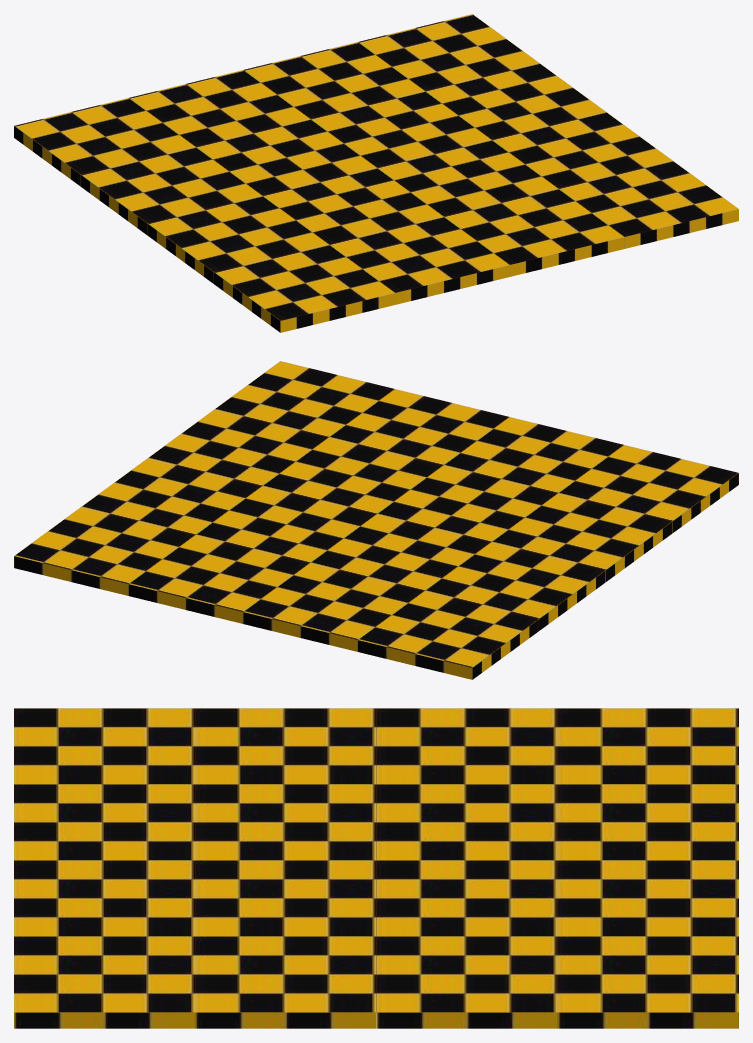
File: tiles seperate.fbx
3 views of the same model, one above another, from view 1: azimuth 30°, elevation 25°; view 2: azimuth 150°, elevation 25°; view 3: azimuth 270°, elevation 25° (orthographic). The views are drawn at different scales.
Visible parts, largest first — view 1: plane.022, plane.020, plane.019, plane.021, plane.014, plane.018, plane.010, plane.009, plane.008, plane.013, plane.016, plane.012 (+4 smaller); view 2: plane.010, plane.008, plane.007, plane.009, plane.018, plane.014, plane.022, plane.021, plane.012, plane.017, plane.020, plane.011 (+4 smaller); view 3: plane.007, plane.011, plane.015, plane.019, plane.016, plane.017, plane.018, plane.008, plane.009, plane.010, plane.012, plane.013 (+4 smaller).
Part boxes in pixels (left/top/right/bottom): plane.022: left=214, top=244, right=394, bottom=332; plane.020: left=443, top=188, right=624, bottom=276; plane.019: left=558, top=160, right=738, bottom=248; plane.021: left=329, top=216, right=509, bottom=304; plane.014: left=80, top=147, right=261, bottom=234; plane.018: left=147, top=195, right=327, bottom=283; plane.010: left=14, top=98, right=194, bottom=186; plane.009: left=129, top=70, right=309, bottom=146; plane.008: left=244, top=42, right=423, bottom=118; plane.013: left=195, top=118, right=375, bottom=195; plane.016: left=377, top=139, right=557, bottom=216; plane.012: left=310, top=91, right=490, bottom=167; plane.010: left=358, top=591, right=538, bottom=679; plane.008: left=128, top=535, right=309, bottom=623; plane.007: left=14, top=507, right=194, bottom=595; plane.009: left=243, top=563, right=423, bottom=651; plane.018: left=491, top=494, right=672, bottom=581; plane.014: left=425, top=542, right=605, bottom=630; plane.022: left=558, top=445, right=738, bottom=533; plane.021: left=443, top=417, right=623, bottom=493; plane.012: left=195, top=486, right=375, bottom=563; plane.017: left=377, top=465, right=557, bottom=542; plane.020: left=329, top=389, right=508, bottom=465; plane.011: left=81, top=458, right=261, bottom=534; plane.007: left=557, top=936, right=738, bottom=1028; plane.011: left=376, top=936, right=557, bottom=1028; plane.015: left=195, top=936, right=376, bottom=1028; plane.019: left=14, top=936, right=195, bottom=1028; plane.016: left=195, top=860, right=376, bottom=936; plane.017: left=195, top=784, right=376, bottom=860; plane.018: left=195, top=708, right=376, bottom=784; plane.008: left=557, top=860, right=738, bottom=936; plane.009: left=557, top=784, right=738, bottom=860; plane.010: left=557, top=708, right=738, bottom=784; plane.012: left=376, top=860, right=557, bottom=936; plane.013: left=376, top=784, right=557, bottom=860.
Bounding box in the file's own units: 3508 × 87.46 × 3532.
1 material, 1 textured.
